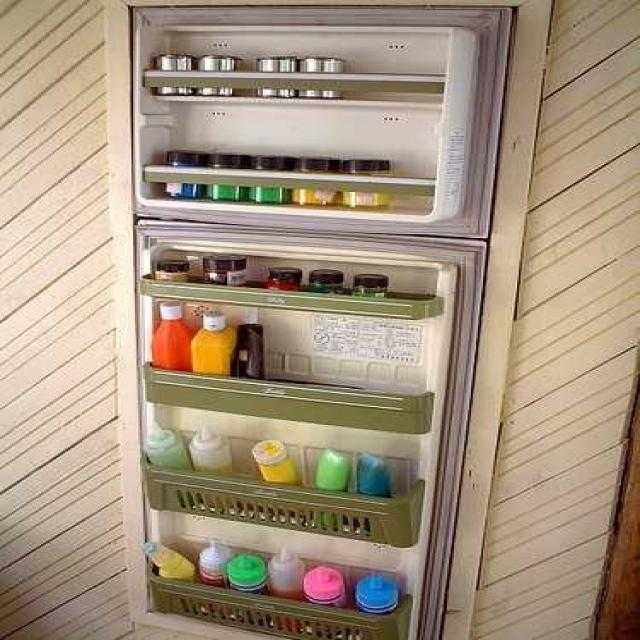refrigerator: (102, 0, 555, 640)
